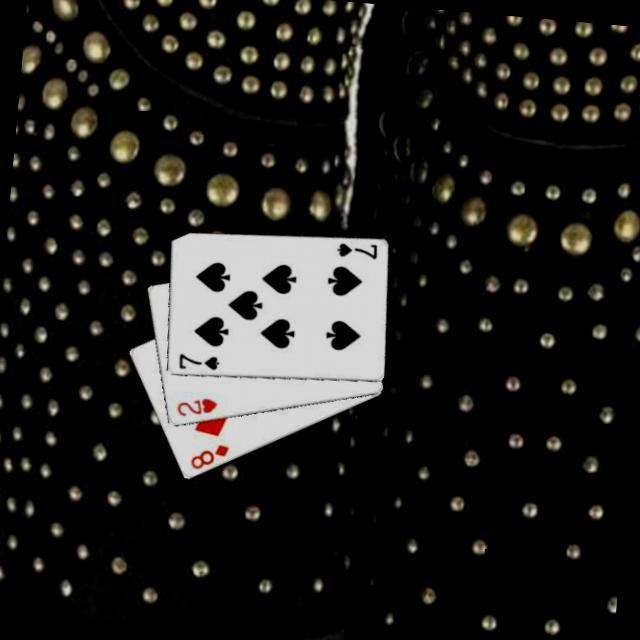2H: (175, 394, 222, 424)
7S: (175, 352, 223, 377), (334, 240, 382, 265)
8D: (187, 441, 234, 477)
